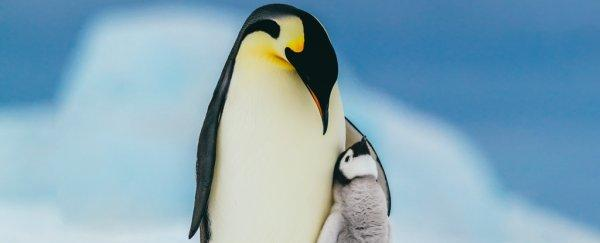emporer: (180, 0, 396, 240)
